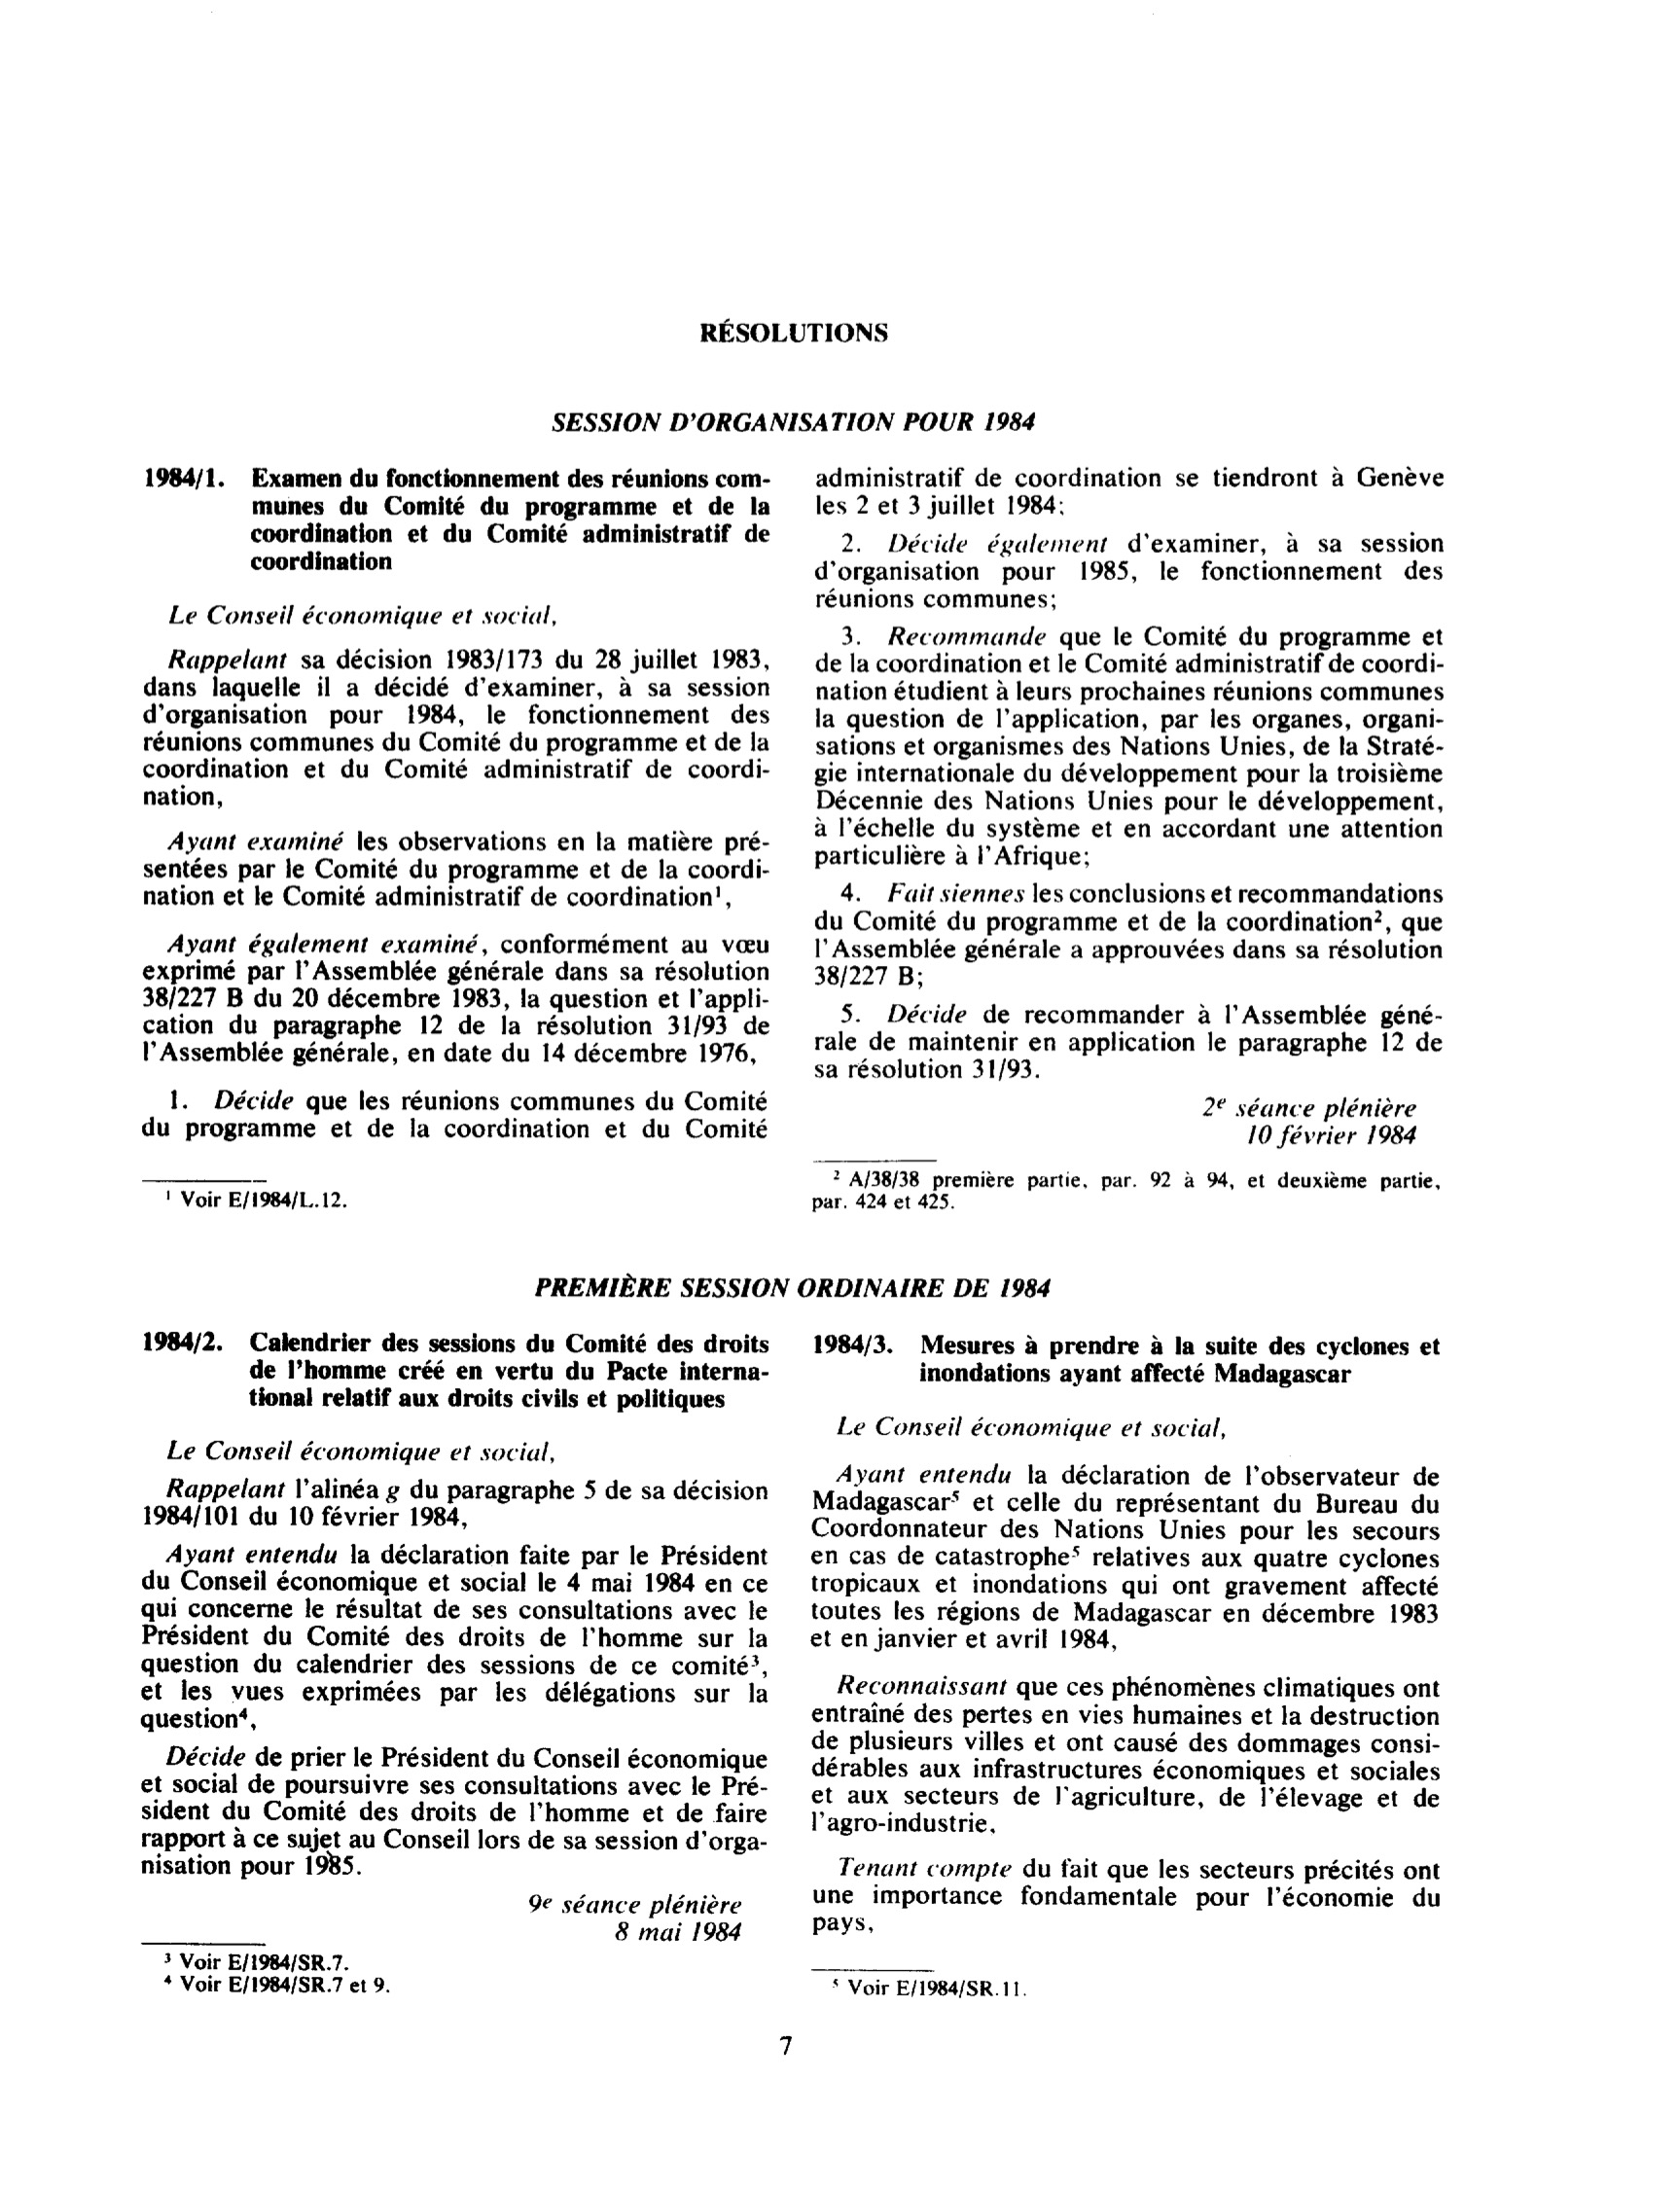MainZone-Continued: (806, 457, 1450, 523)
MainZone-Date: (602, 1916, 754, 1951), (1235, 1129, 1435, 1152)
MainZone-Head: (134, 456, 777, 579), (134, 1322, 776, 1417), (805, 1324, 1448, 1394), (526, 1266, 1062, 1310), (545, 399, 1046, 446)
MainZone-ListItem: (808, 620, 1452, 873), (807, 875, 1451, 993), (806, 996, 1452, 1088), (807, 526, 1451, 618), (132, 1083, 776, 1151)
MainZone-P: (805, 1459, 1446, 1656), (132, 1541, 774, 1735), (132, 641, 777, 813), (804, 1672, 1447, 1840), (132, 926, 780, 1072), (131, 1739, 775, 1881), (134, 823, 776, 915), (804, 1853, 1448, 1942), (129, 1473, 775, 1535), (809, 1408, 1237, 1446), (143, 1430, 565, 1466), (151, 596, 571, 631)
MainZone-Signature: (1190, 1089, 1454, 1129), (518, 1887, 765, 1924)
MarginTextZone-Notes: (804, 1164, 1448, 1226), (153, 1179, 357, 1221), (824, 1968, 1036, 2008), (152, 1971, 402, 2002), (153, 1945, 362, 1973)
StampZone: (689, 308, 899, 359)
